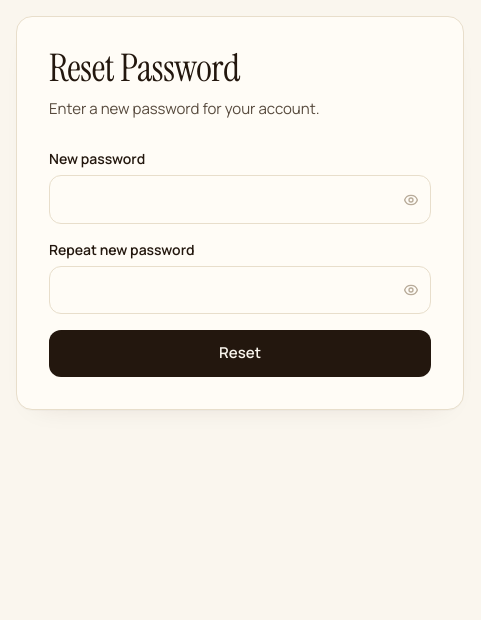
Scenario: ResetPassword page › shows error message when password reset fails
Type "newpass123" into the password field labelled "New password". click: x=240, y=200
box: [49,175,431,224]
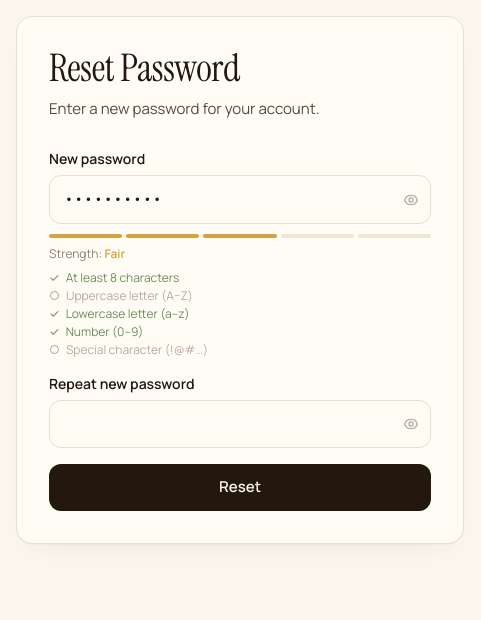
Type "newpass123" into the password field labelled "Repeat new password". click: x=240, y=424
box: [49,400,431,448]
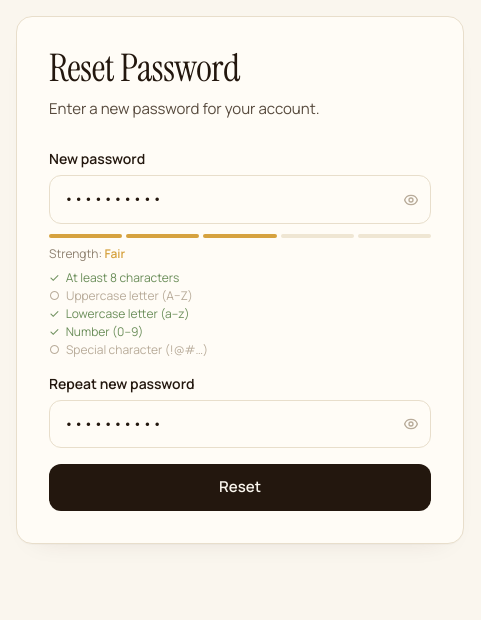
Submit the form named "reset", box [49,149,431,511]
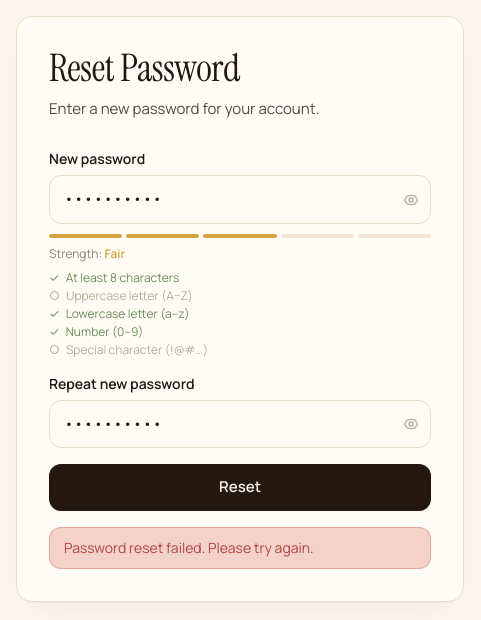
Expected: the text "Password reset failed. Please try again." is shown, [49,527,431,569]
